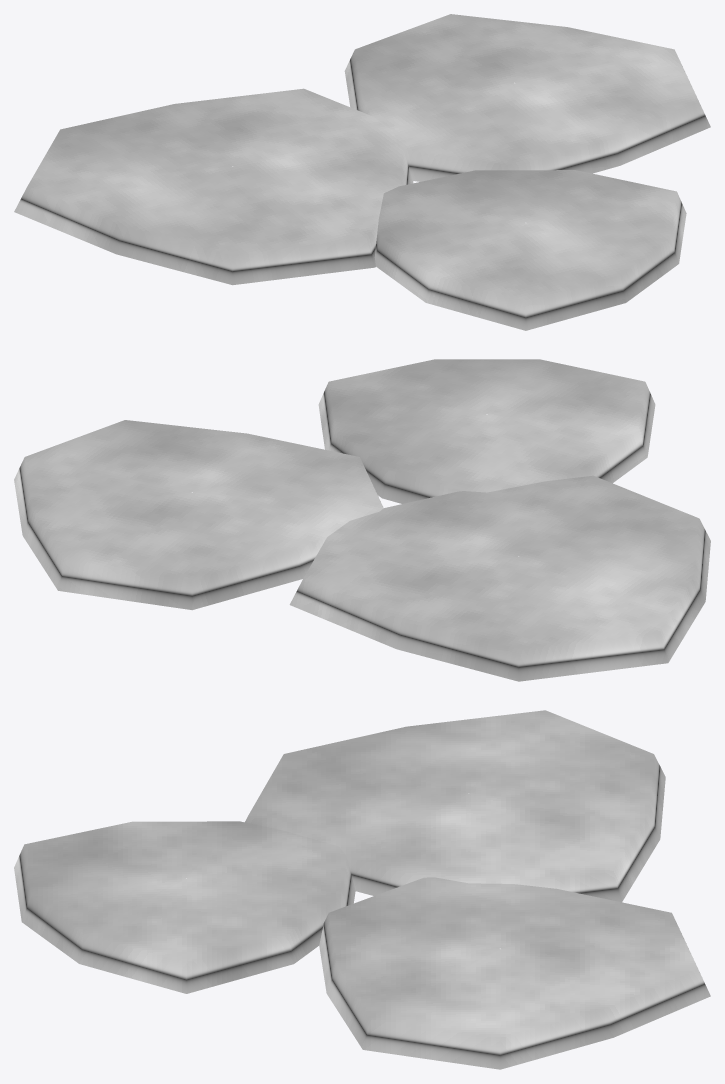
Rendered from path-2.glb.
3 renders of one model, top to bottom at view 1: azimuth 30°, elevation 25°; view 2: azimuth 150°, elevation 25°; view 3: azimuth 270°, elevation 25°, orthographic. The views are drawn at different scales.
Visible parts, largest first — view 1: path-2; view 2: path-2; view 3: path-2.
Part boxes in pixels (<box>): path-2: <box>14,14,710,330</box>; path-2: <box>14,359,710,681</box>; path-2: <box>14,710,710,1069</box>.
Bounding box in the file's own units: 1.26 × 0.055 × 1.09.
1 material, 1 textured.
